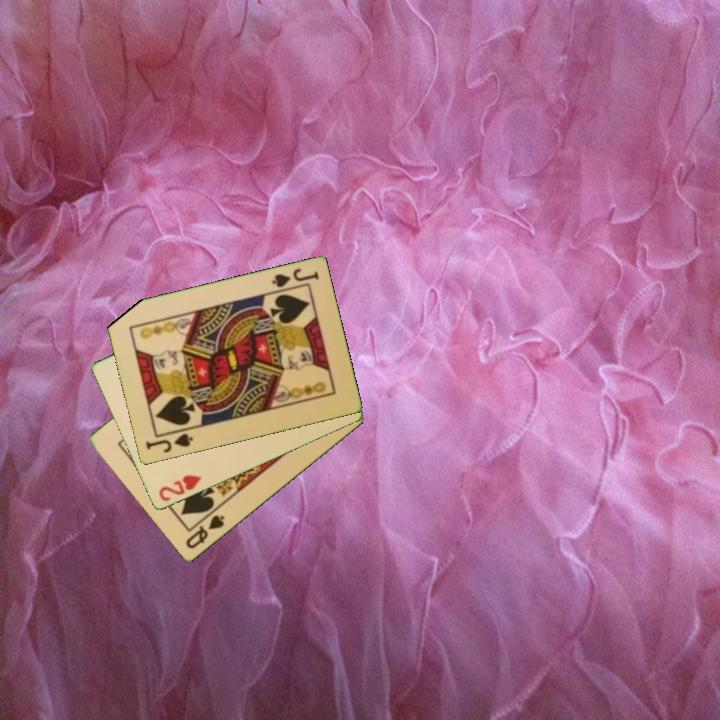2h: (155, 471, 205, 505)
Js: (142, 430, 196, 456), (268, 265, 322, 291)
Qs: (182, 512, 228, 552)
